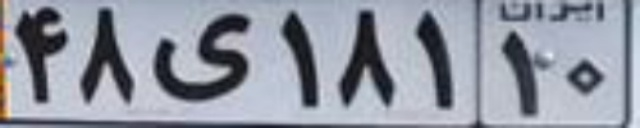0: (561, 58, 606, 94)
1: (414, 11, 456, 107), (278, 10, 318, 107), (495, 29, 540, 115)
4: (13, 6, 68, 104)
8: (335, 8, 398, 106), (77, 6, 135, 105)
ye: (151, 11, 251, 102)
